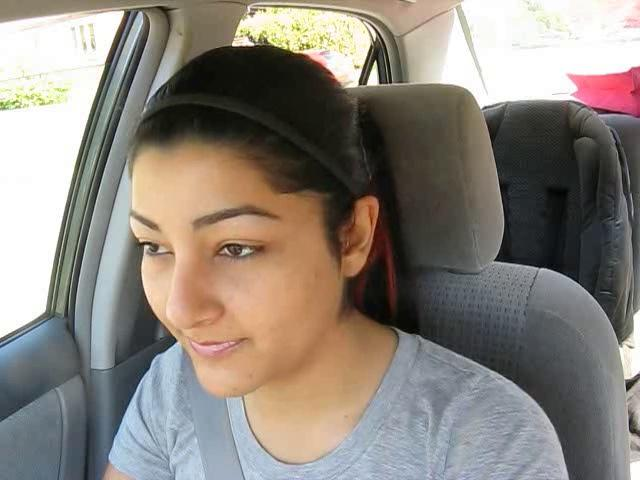no_yawn: (167, 323, 262, 371)
open_eyeL: (133, 228, 179, 269)
open_eyeR: (201, 225, 279, 273)
